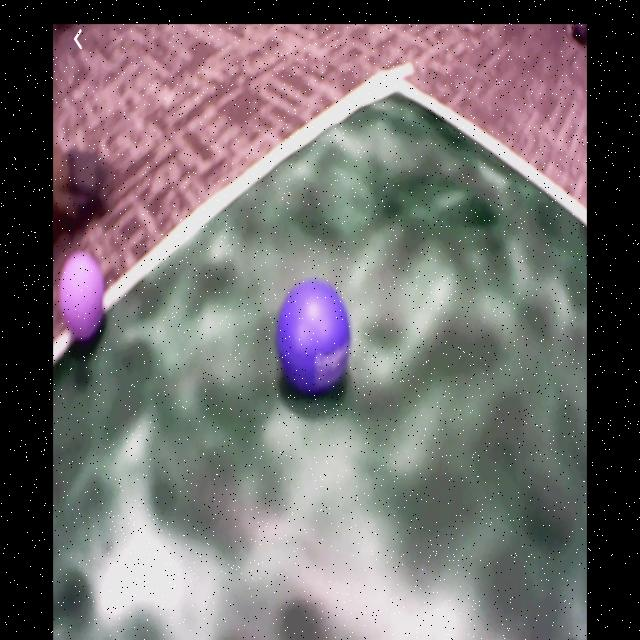ball: (275, 282, 352, 398), (60, 253, 108, 337)
